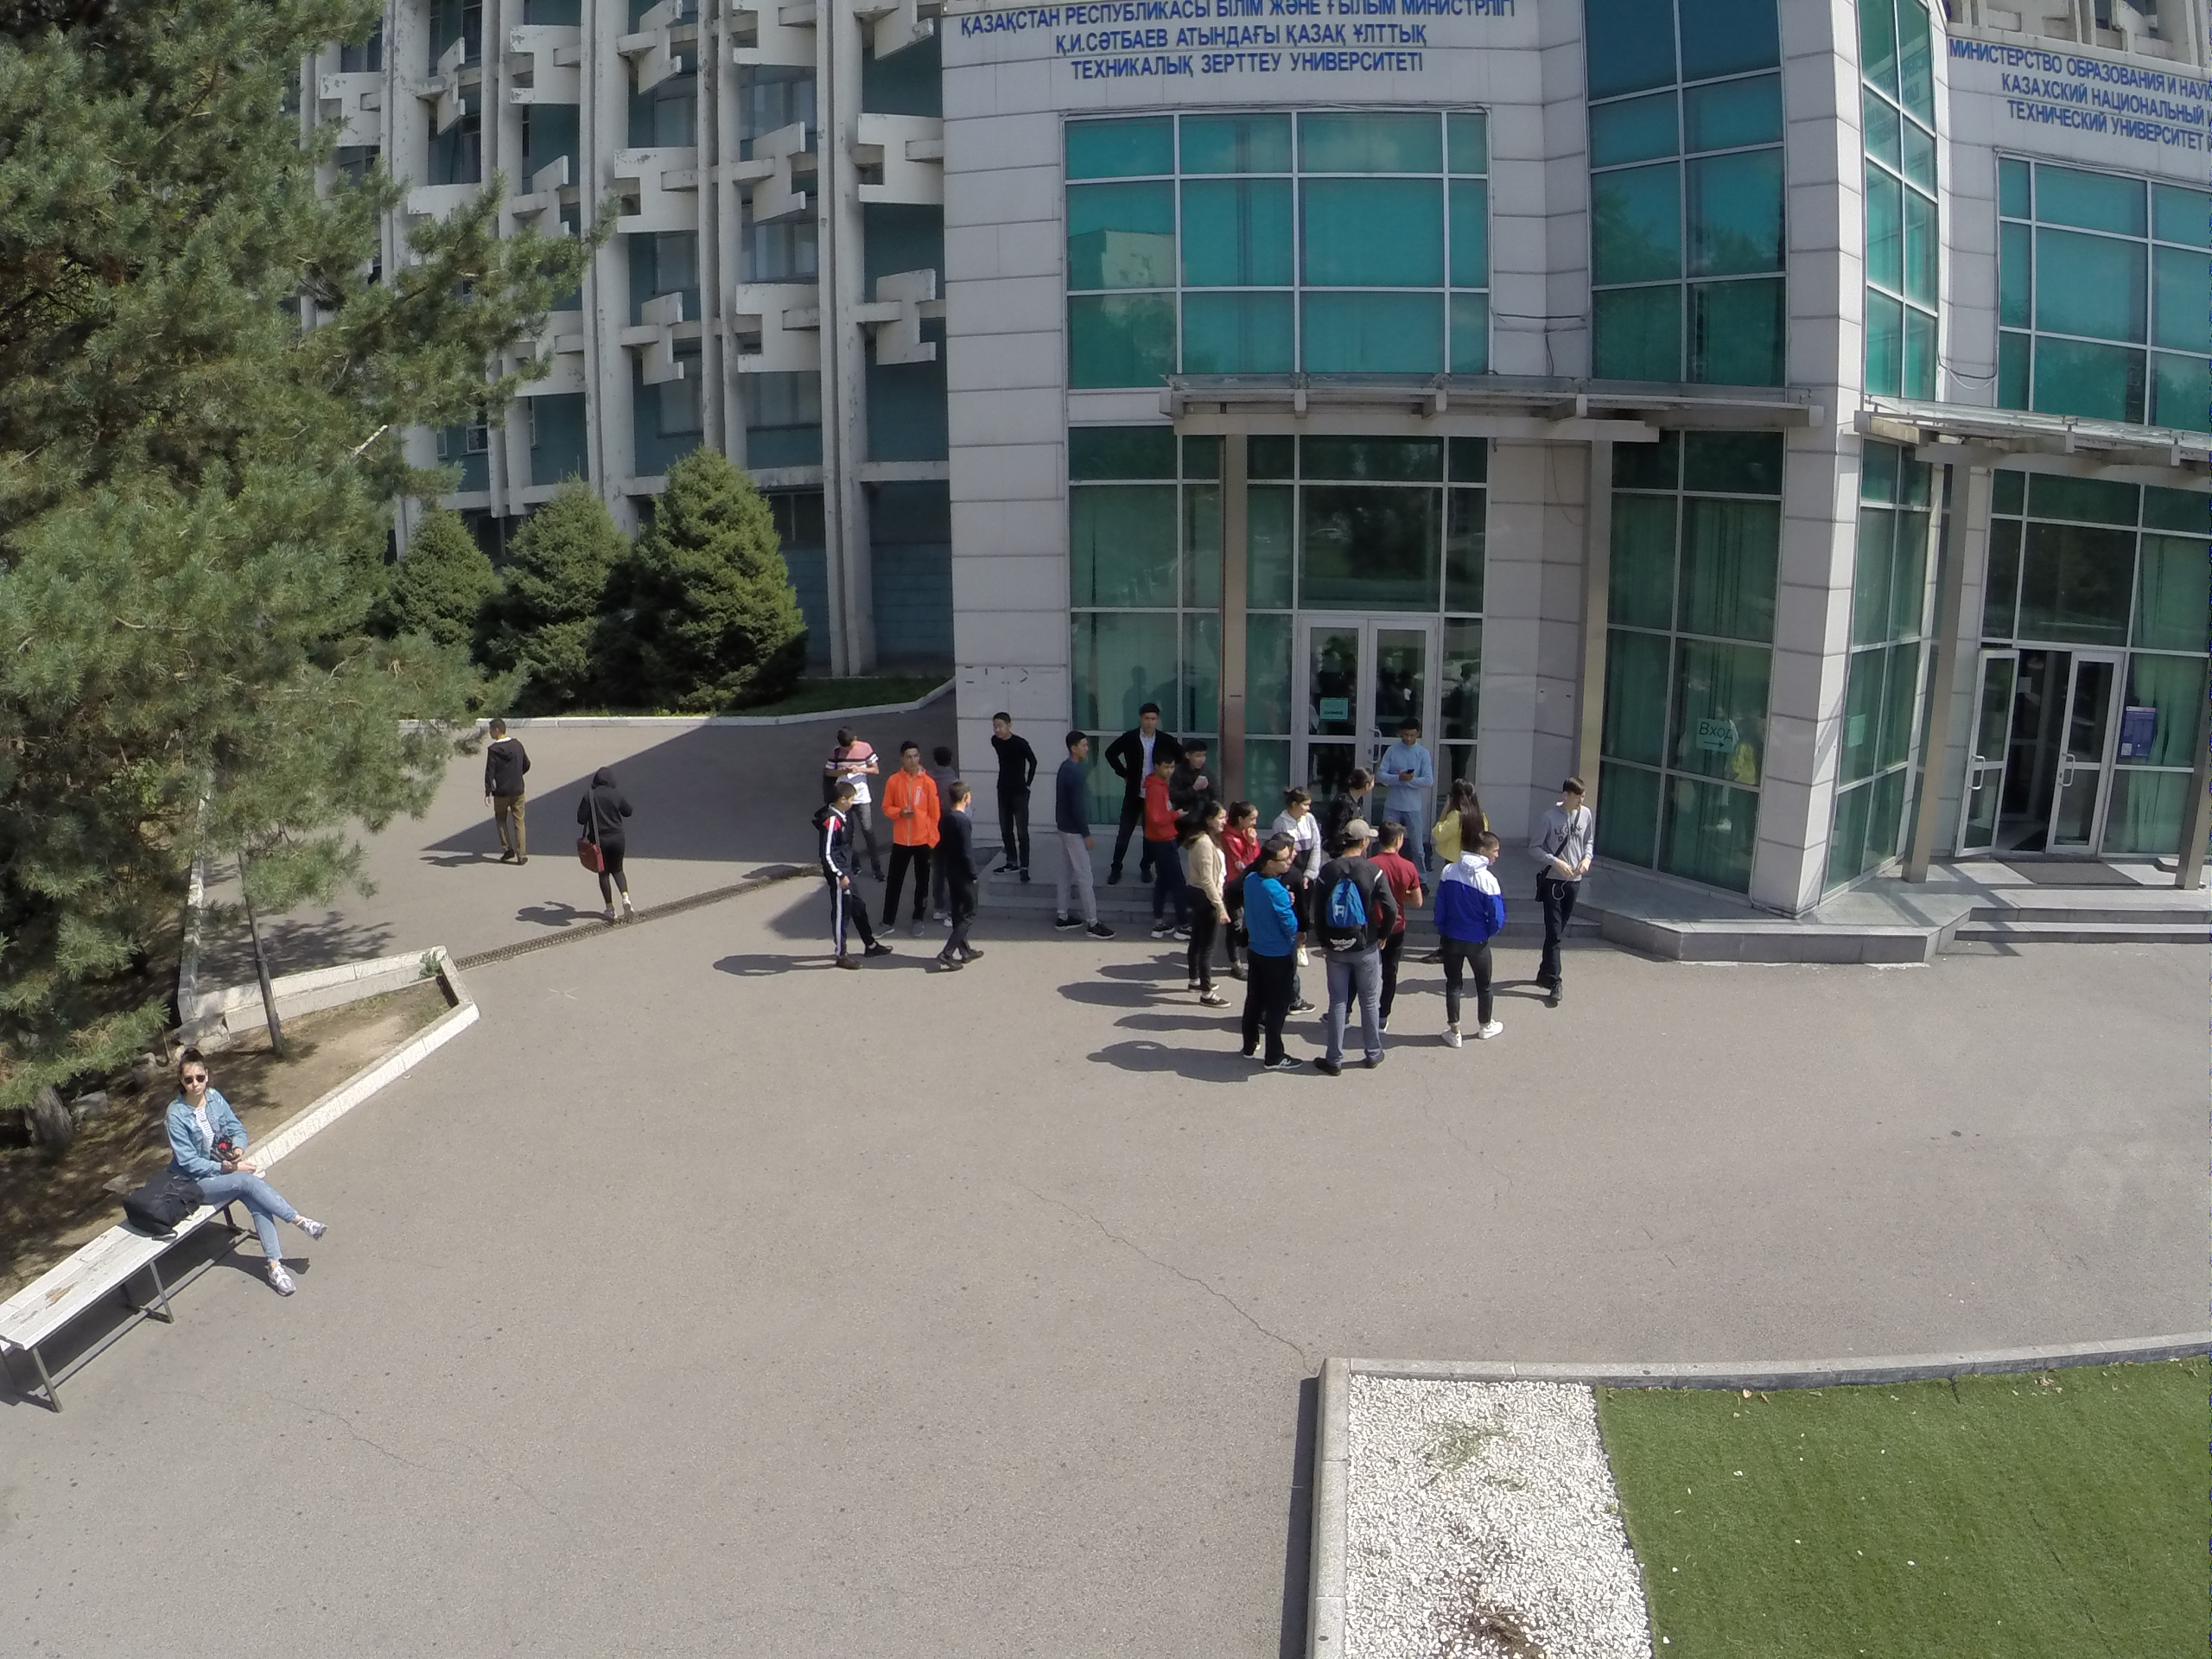person: (159, 1035, 325, 1310), (1313, 823, 1390, 1081), (1523, 774, 1596, 1024), (1441, 834, 1508, 1039), (1053, 728, 1119, 944), (1245, 840, 1301, 1071), (573, 766, 643, 929), (1181, 801, 1230, 1013), (810, 785, 869, 953), (1148, 746, 1192, 942), (991, 707, 1037, 893), (1112, 698, 1157, 884), (889, 739, 930, 934), (483, 718, 537, 867), (945, 782, 984, 969), (841, 721, 883, 868), (1384, 716, 1433, 826), (1438, 774, 1483, 850), (1338, 765, 1378, 831), (1276, 786, 1325, 836), (1178, 735, 1211, 806), (1230, 797, 1258, 861)
